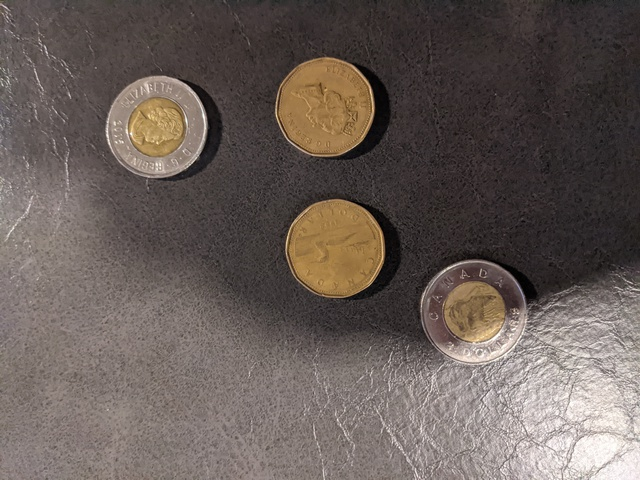loonie: (274, 47, 380, 163), (282, 186, 384, 297)
twonie: (418, 247, 529, 368), (102, 76, 209, 184)
